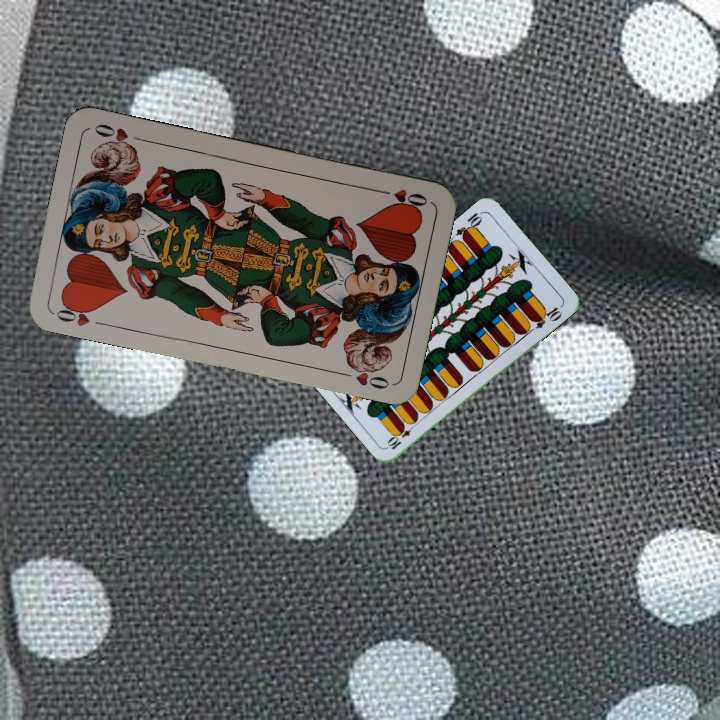E10: (452, 208, 486, 242), (384, 419, 419, 452)
HO: (373, 185, 430, 212), (50, 298, 99, 329)
